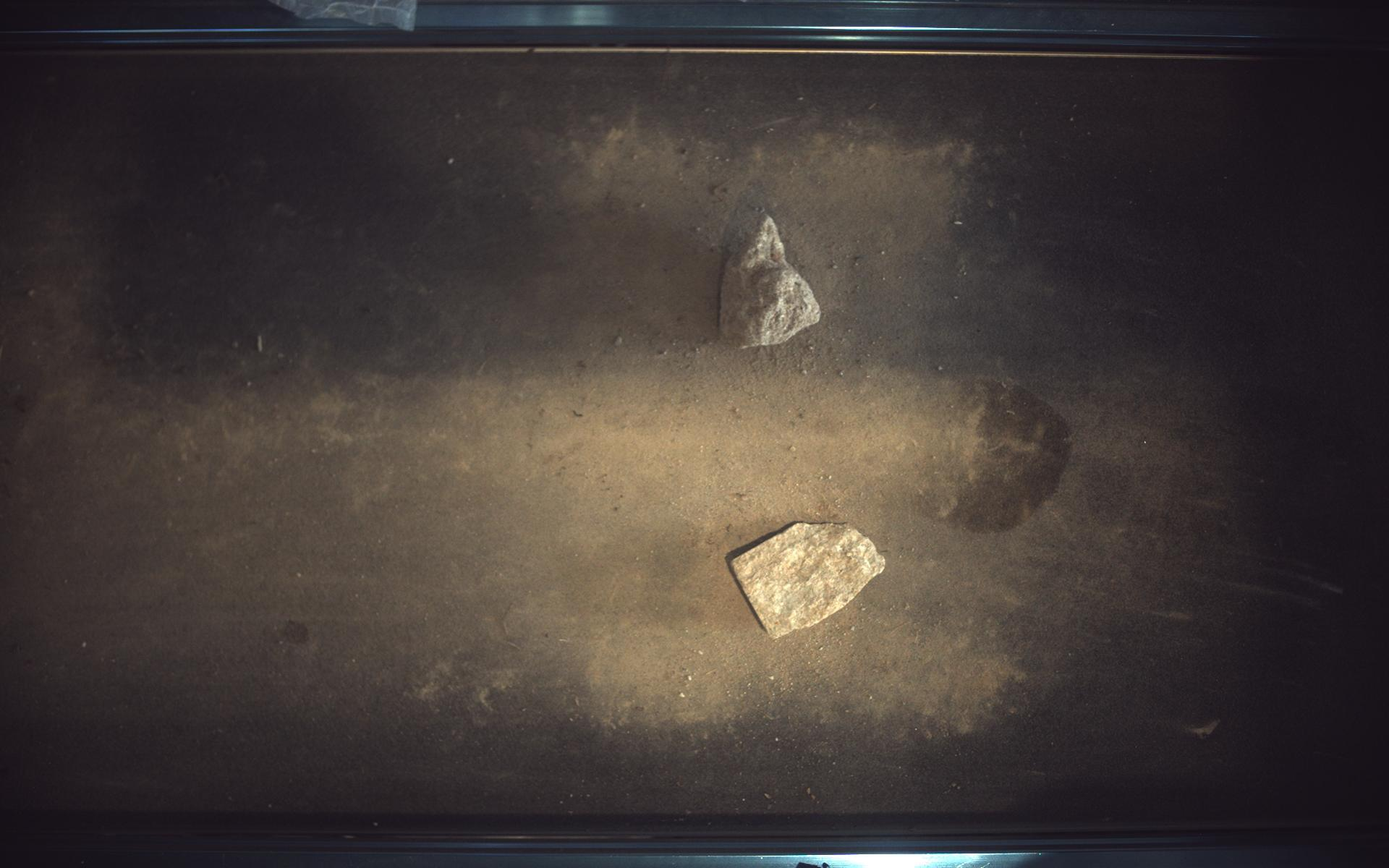stone: (733, 523, 887, 639), (723, 215, 822, 347)
